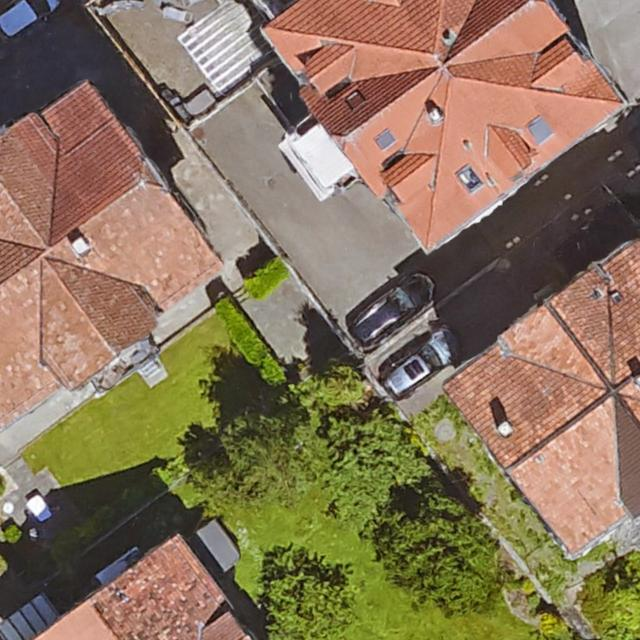tree: (375, 493, 504, 612), (325, 408, 427, 522), (221, 407, 333, 500), (262, 543, 353, 640), (293, 361, 369, 421), (155, 456, 234, 513), (592, 548, 640, 640)
